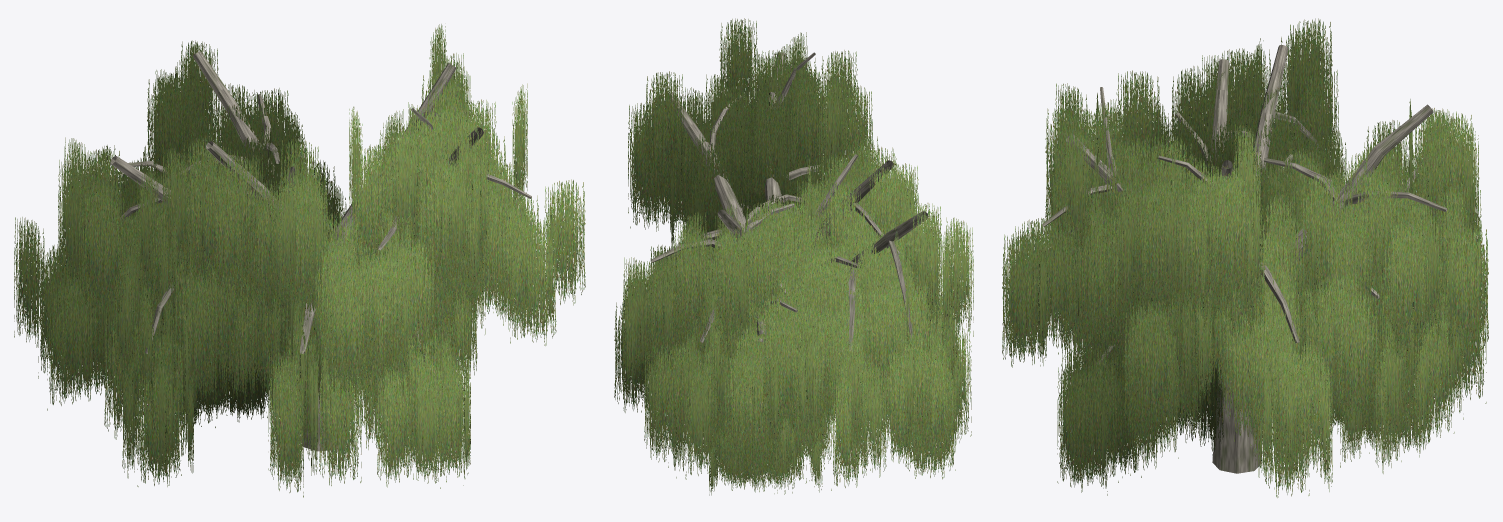
File: Tree_Willow_1.gltf
3 views of the same model, side by side, from view 1: azimuth 30°, elevation 25°; view 2: azimuth 150°, elevation 25°; view 3: azimuth 270°, elevation 25° (orthographic). The views are drawn at different scales.
Visible parts, largest first — view 1: Tree_Willow_1; view 2: Tree_Willow_1; view 3: Tree_Willow_1.
Boxes of the visible parts, box(x1,y1,x2,y2) form: Tree_Willow_1: box(14, 24, 585, 497); Tree_Willow_1: box(614, 18, 973, 495); Tree_Willow_1: box(1002, 18, 1488, 497).
Bounding box in the file's own units: 12.41 × 11.54 × 12.65.
Materials: 2 (2 with a texture image).
